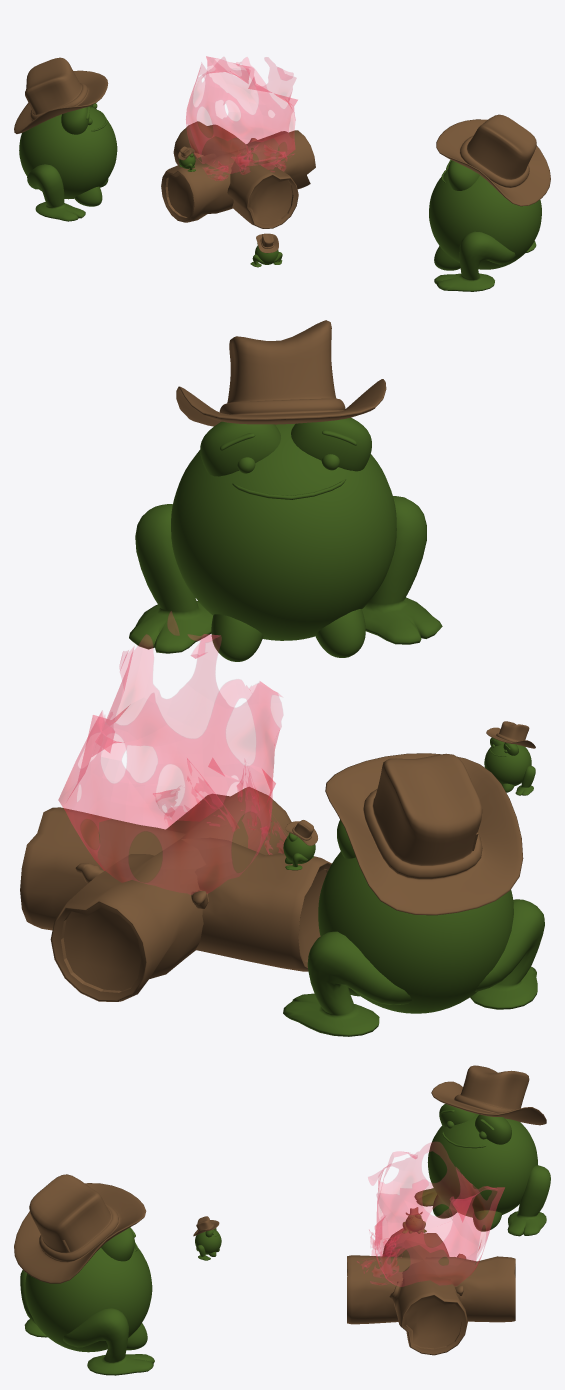
The model's file is dan_fire_04.glb.
The picture shows the model from 3 angles, top to bottom: view 1: azimuth 30°, elevation 25°; view 2: azimuth 150°, elevation 25°; view 3: azimuth 270°, elevation 25°; orthographic projection. The views are drawn at different scales.
Parts seen in each view (by area): view 1: frog_boi (×3), log_boi (×2), hat_boi (×3), Large Fire, Mini Fire 1; view 2: frog_boi (×3), log_boi (×2), Large Fire, hat_boi (×2); view 3: frog_boi (×3), log_boi (×2), hat_boi (×2), Large Fire, Mini Fire 1.
Part boxes in pixels (x1,y1,x2,y2): frog_boi (×3): (19, 103, 541, 291); log_boi (×2): (161, 121, 315, 228); hat_boi (×3): (14, 57, 550, 253); Large Fire: (186, 56, 297, 173); Mini Fire 1: (231, 145, 293, 171); frog_boi (×3): (129, 417, 544, 1036); log_boi (×2): (20, 787, 331, 1001); Large Fire: (58, 611, 282, 894); hat_boi (×2): (176, 320, 523, 915); frog_boi (×3): (20, 1104, 550, 1375); log_boi (×2): (347, 1228, 515, 1355); hat_boi (×2): (14, 1065, 546, 1283); Large Fire: (368, 1142, 504, 1286); Mini Fire 1: (357, 1247, 403, 1284).
Bounding box in the file's own units: 8.18 × 4.28 × 9.59.
3 materials, 1 textured.
